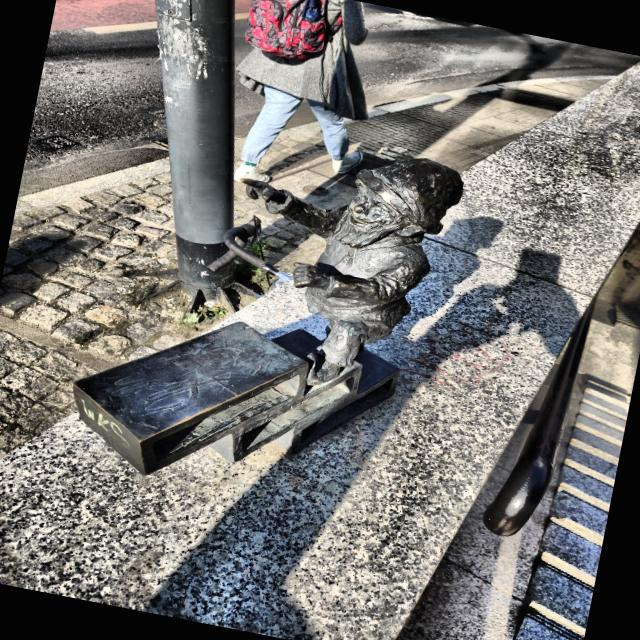Elementek: (74, 158, 464, 474)
